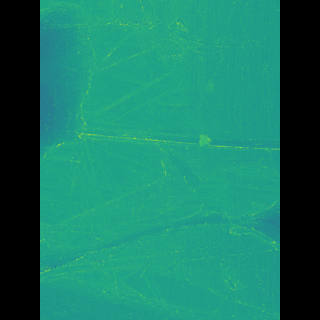Loch: (69, 10, 197, 282), (132, 160, 250, 320)
